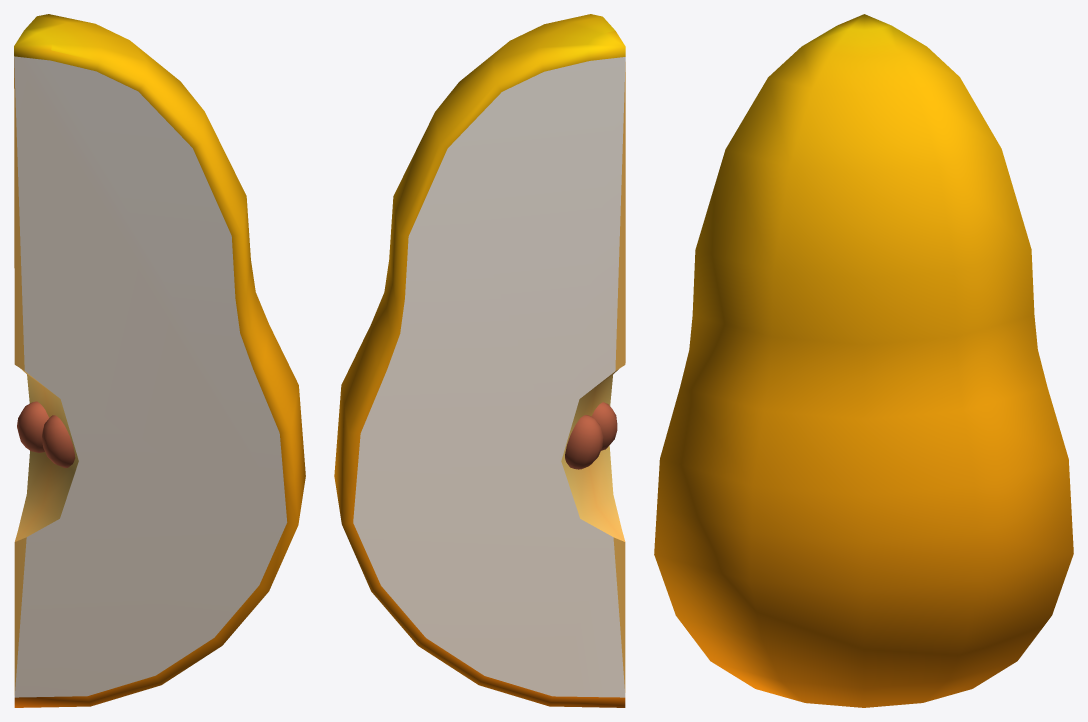
The model's file is Pear_V2_02.fbx.
3 renders of one model, left to right at view 1: azimuth 30°, elevation 25°; view 2: azimuth 150°, elevation 25°; view 3: azimuth 270°, elevation 25°, orthographic.
Visible parts, largest first — view 1: Pear_V2_02; view 2: Pear_V2_02; view 3: Pear_V2_02.
Part boxes in pixels (left/top/right/bottom): Pear_V2_02: left=14, top=14, right=305, bottom=707; Pear_V2_02: left=334, top=14, right=625, bottom=707; Pear_V2_02: left=654, top=14, right=1073, bottom=707.
Size of the model in its own units: 12.94 by 32.11 by 18.27.
